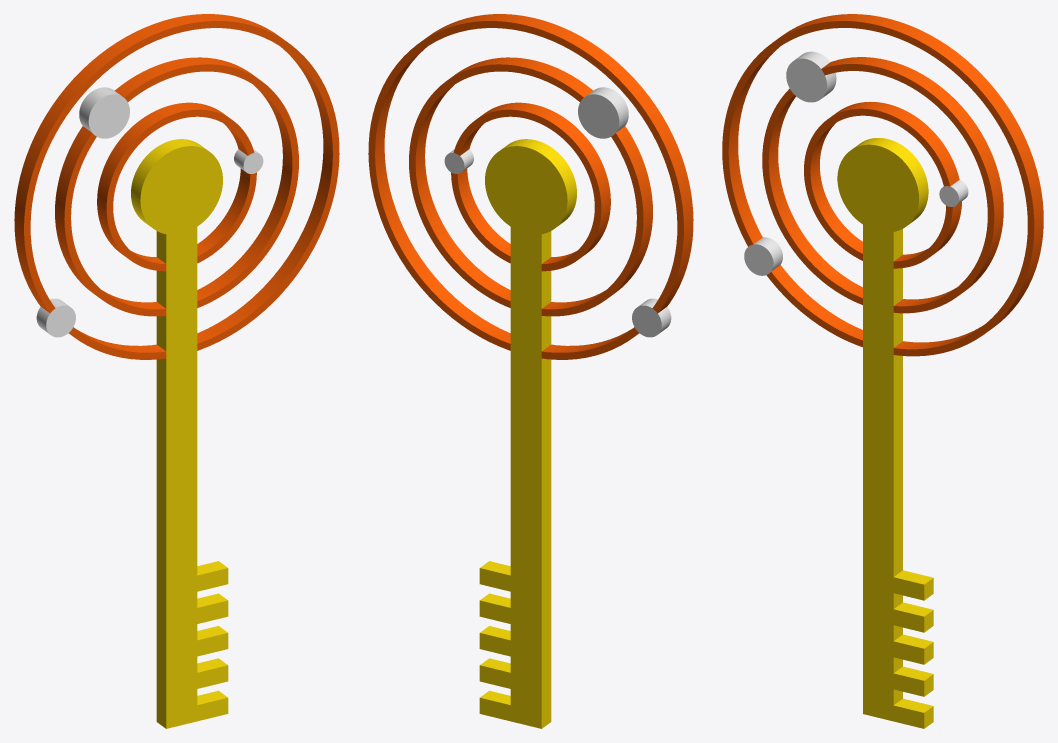
Rendered from track_key_orange.dae.
3 renders of one model, left to right at view 1: azimuth 30°, elevation 25°; view 2: azimuth 150°, elevation 25°; view 3: azimuth 330°, elevation 25°, orthographic.
Parts seen in each view (by area): view 1: Component_2 (×10); view 2: Component_2 (×9); view 3: Component_2 (×9).
Boxes of the visible parts, left/top/right/bottom form: Component_2 (×10): left=14, top=14, right=339, bottom=728; Component_2 (×9): left=368, top=14, right=693, bottom=728; Component_2 (×9): left=722, top=14, right=1043, bottom=728.
Bounding box in the file's own units: 150 × 7.87 × 319.
